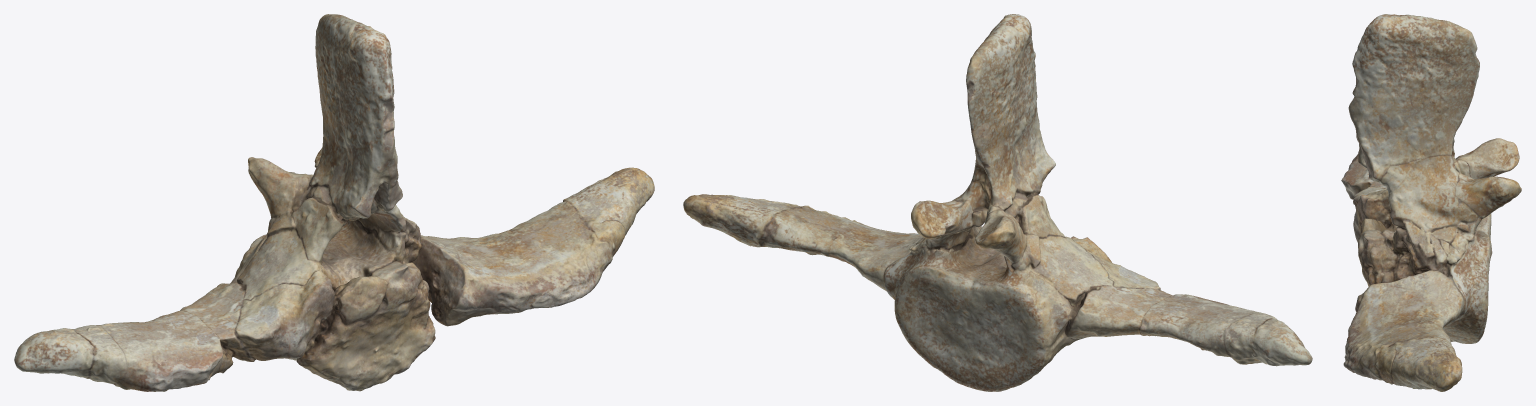
3 renders of one model, left to right at view 1: azimuth 30°, elevation 25°; view 2: azimuth 150°, elevation 25°; view 3: azimuth 270°, elevation 25°, orthographic. The views are drawn at different scales.
Parts seen in each view (by area): view 1: Fossil_Sea_Cow_from_Al_Maszhabiya-150k; view 2: Fossil_Sea_Cow_from_Al_Maszhabiya-150k; view 3: Fossil_Sea_Cow_from_Al_Maszhabiya-150k.
Part boxes in pixels (bbox=[...]): Fossil_Sea_Cow_from_Al_Maszhabiya-150k: bbox=[14, 14, 654, 391]; Fossil_Sea_Cow_from_Al_Maszhabiya-150k: bbox=[683, 14, 1312, 391]; Fossil_Sea_Cow_from_Al_Maszhabiya-150k: bbox=[1341, 14, 1521, 391].
Bounding box in the file's own units: 0.2917 × 0.1555 × 0.0775.
1 material, 1 textured.
